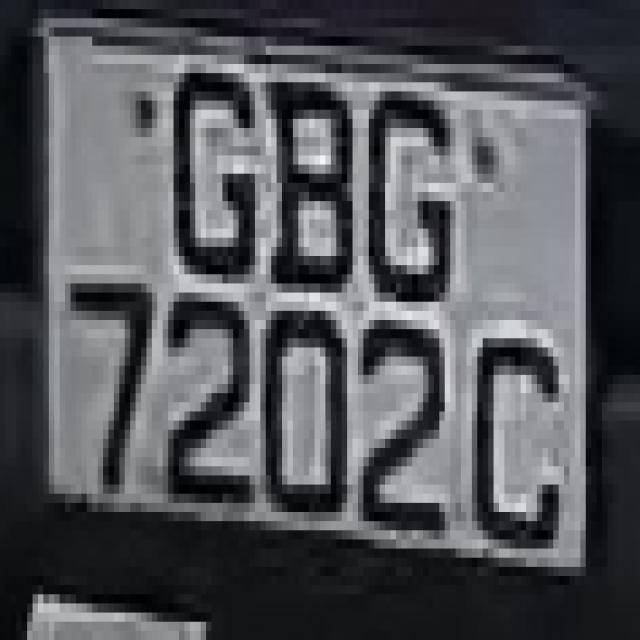0: (255, 292, 352, 548)
2: (152, 274, 255, 530), (352, 292, 456, 540)
7: (54, 247, 163, 512)
B: (260, 45, 369, 292)
C: (466, 302, 570, 567)
G: (358, 73, 466, 311), (157, 36, 260, 284)
